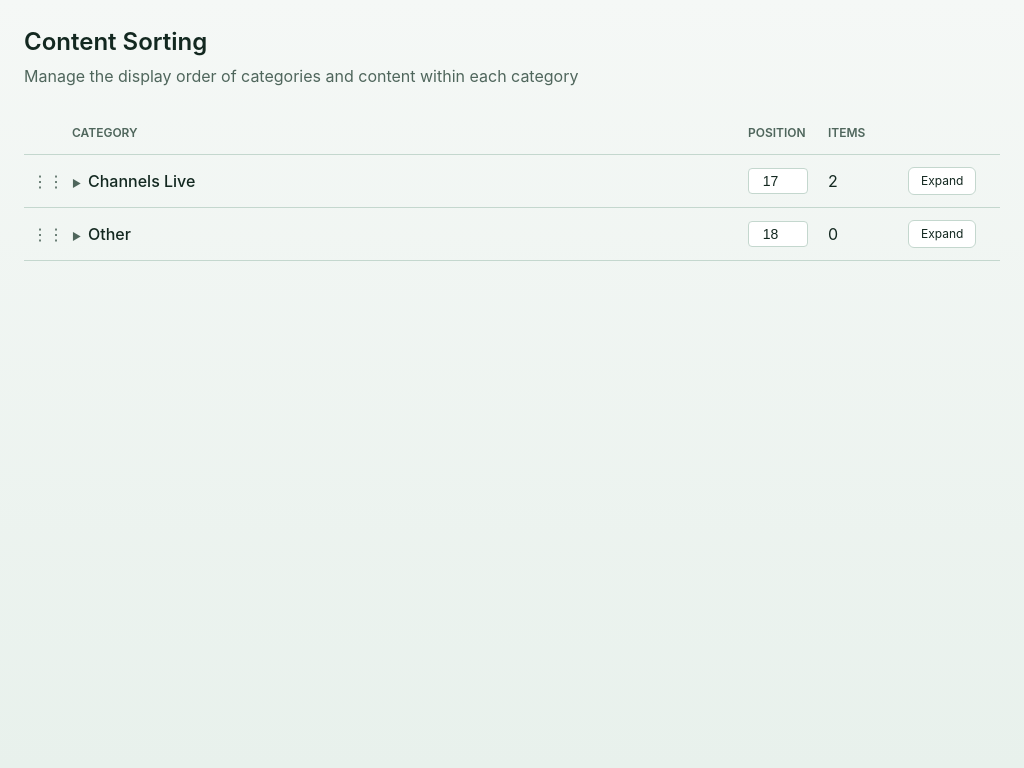
Test: Content Sorting on a live category (spec §8) › shows the note, the suspect banner and a chip per row
Click the text "Channels Live" at (142, 181), box x1=88 y1=171 x2=195 y2=191
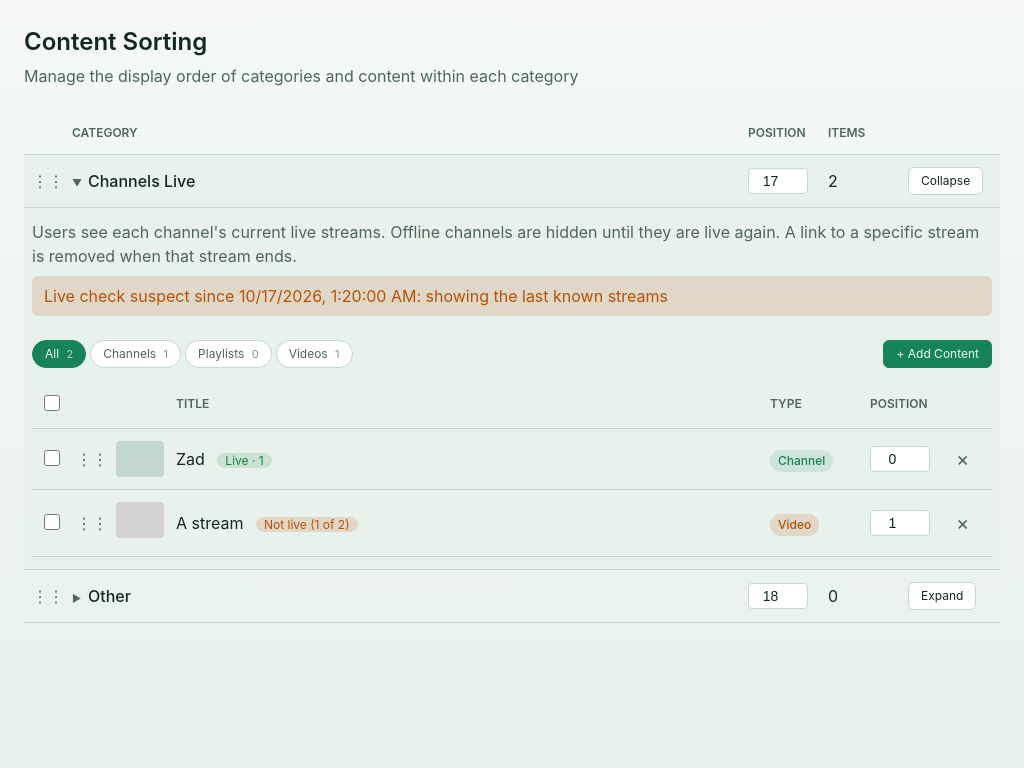
Check: the text "Users see each channel's current live streams" is shown, box x1=32 y1=222 x2=979 y2=266
Check: the message shows "Live check suspect since", box x1=44 y1=286 x2=668 y2=306
Check: the text "Live · 1" is shown, box x1=217 y1=453 x2=272 y2=468
